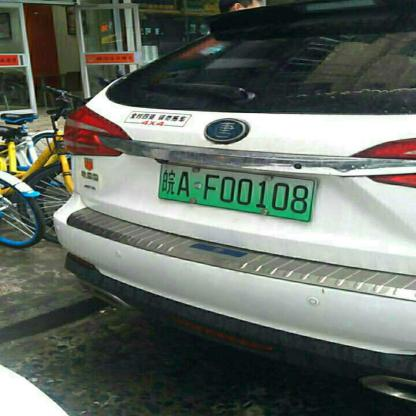lp: (156, 163, 315, 221)
